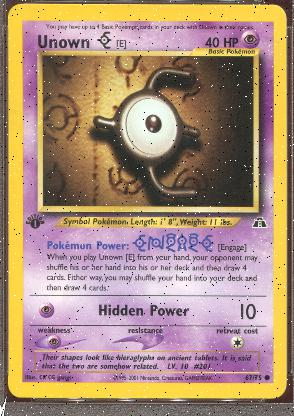Card: (6, 0, 289, 401)
